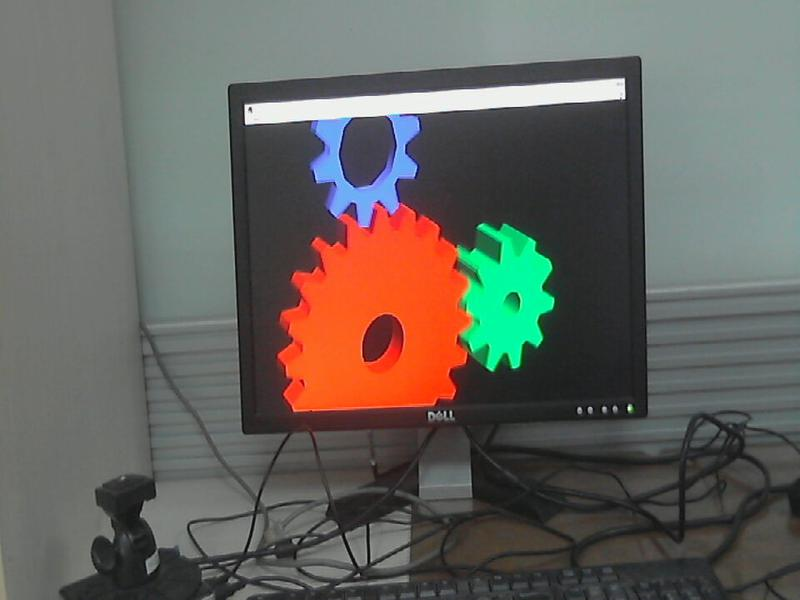glxgears_pass: (265, 119, 555, 408)
